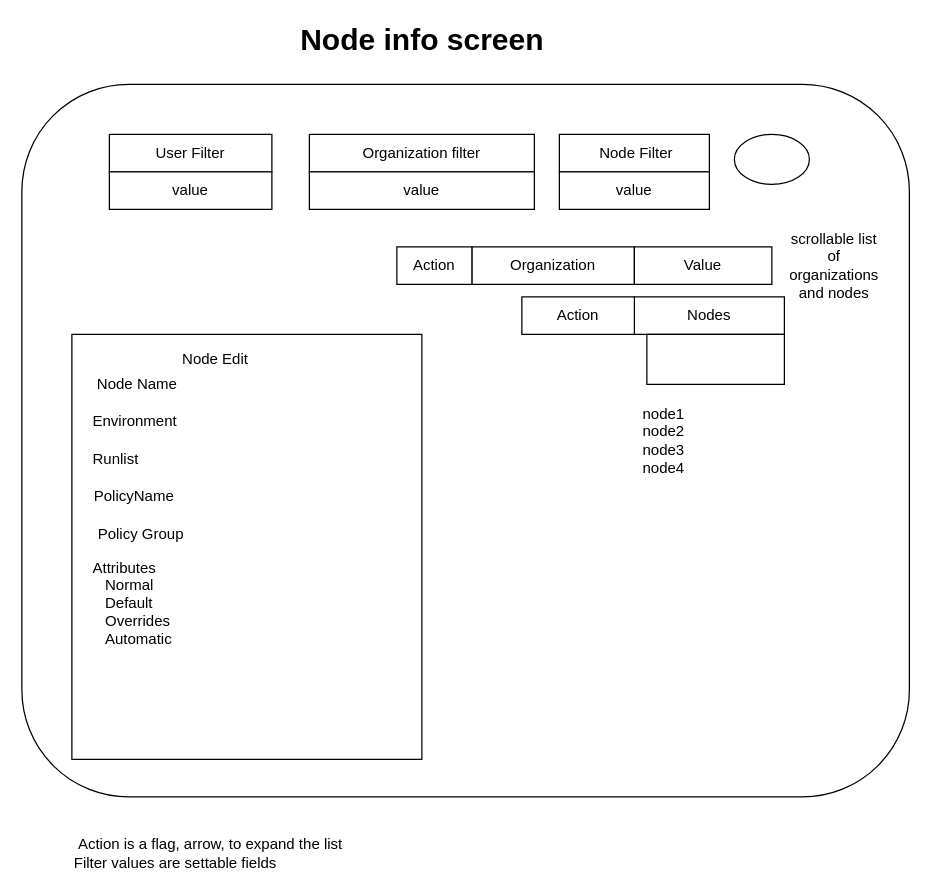
The diagram is 931 pixels wide and 893 high, and some of its shapes have lost their labels. Here are the shapes that lost their labels. From the top down, the centre of each, then its label:
At (771,158): "Toggle Filter".
At (715,358): "Node Names".
